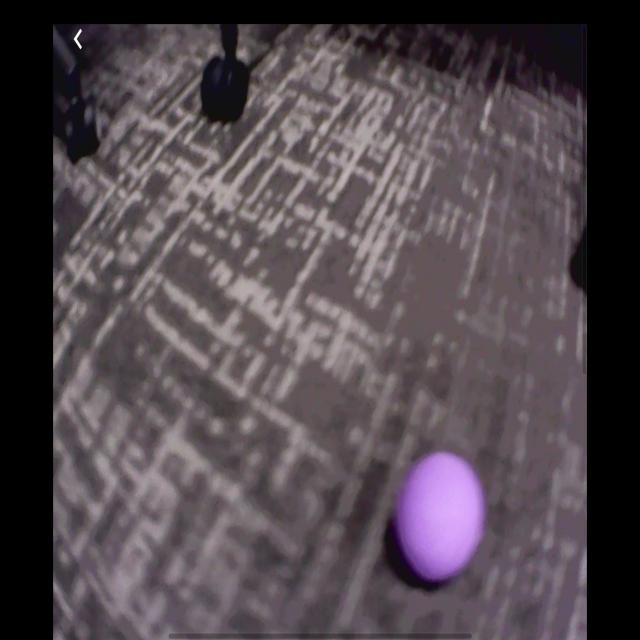ball: (400, 453, 485, 578)
